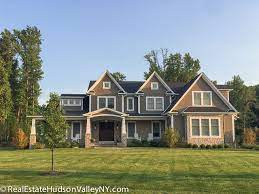Building House: (32, 69, 242, 150)
